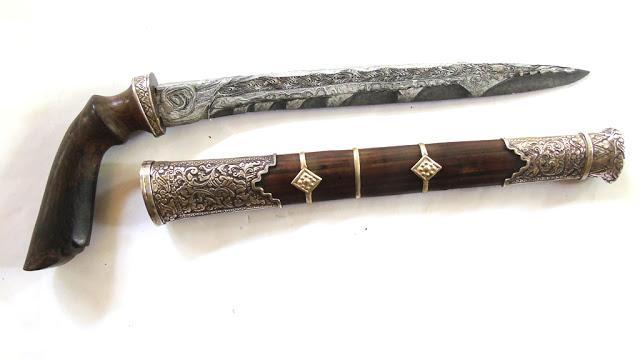facao: (2, 47, 614, 306)
